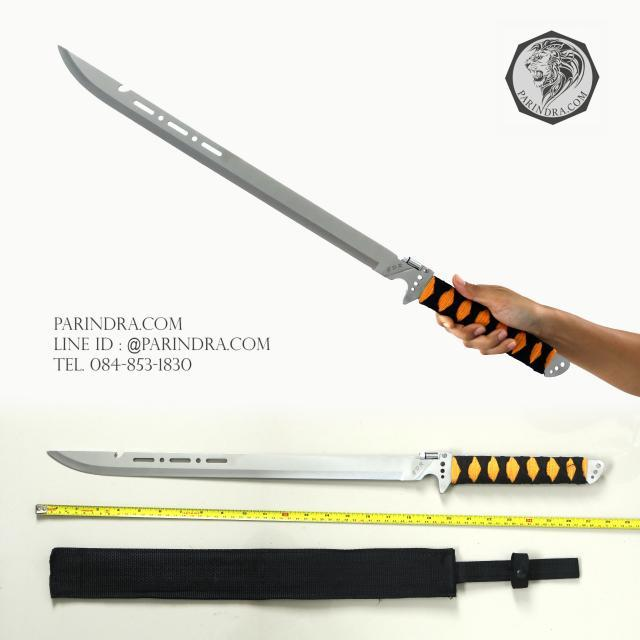long sword: (58, 41, 573, 382), (40, 536, 581, 610), (48, 440, 614, 484)
